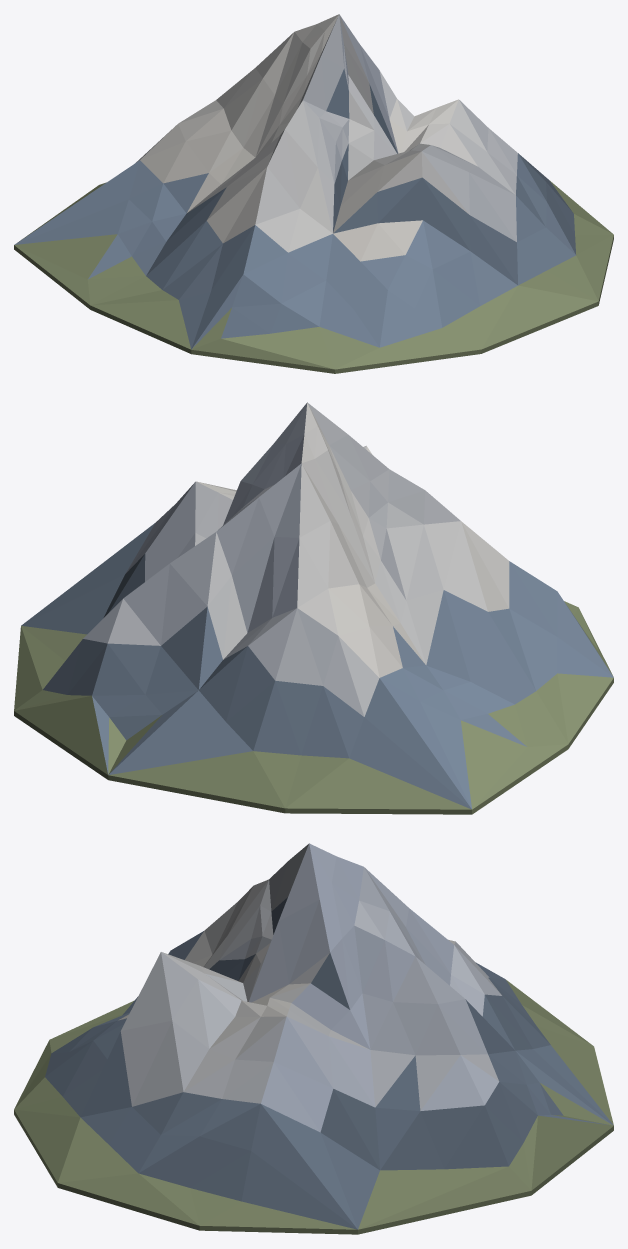
Rendered from massif_west_summit.glb.
The picture shows the model from 3 angles, top to bottom: view 1: azimuth 30°, elevation 25°; view 2: azimuth 150°, elevation 25°; view 3: azimuth 270°, elevation 25°; orthographic projection. The views are drawn at different scales.
Visible parts, largest first — view 1: massif_west_summit; view 2: massif_west_summit; view 3: massif_west_summit.
Boxes of the visible parts, x1,y1,x2,y2 form: massif_west_summit: (14,14,613,373); massif_west_summit: (14,402,613,814); massif_west_summit: (14,843,613,1234).
Bounding box in the file's own units: 818 × 402 × 819.
